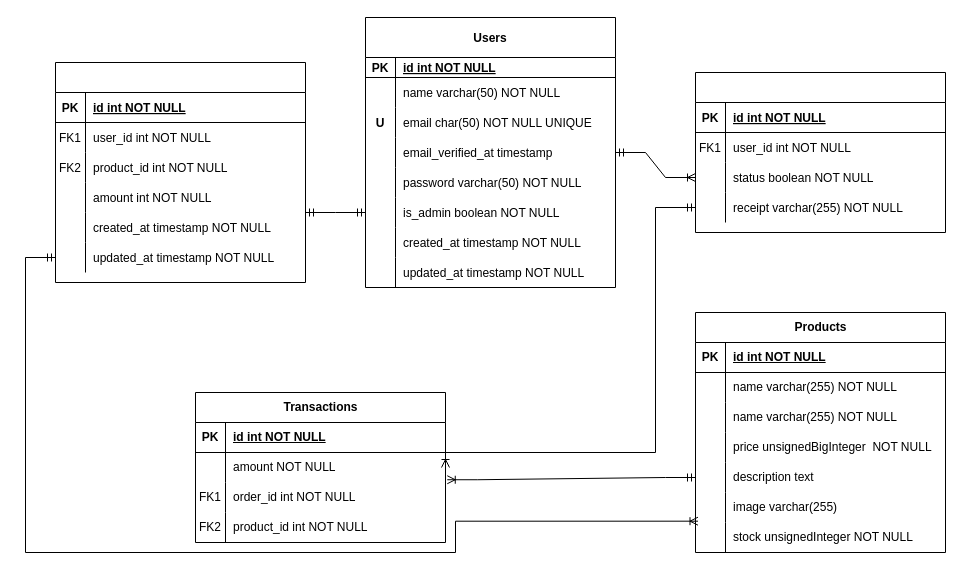
The diagram is 963 pixels wide and 579 high, and some of its shapes have lost their labels. The box of each missing label's shape, as (x1, y1, x2, y2) in pixels:
Carts: (54, 62, 306, 282)
Orders: (694, 72, 946, 232)
